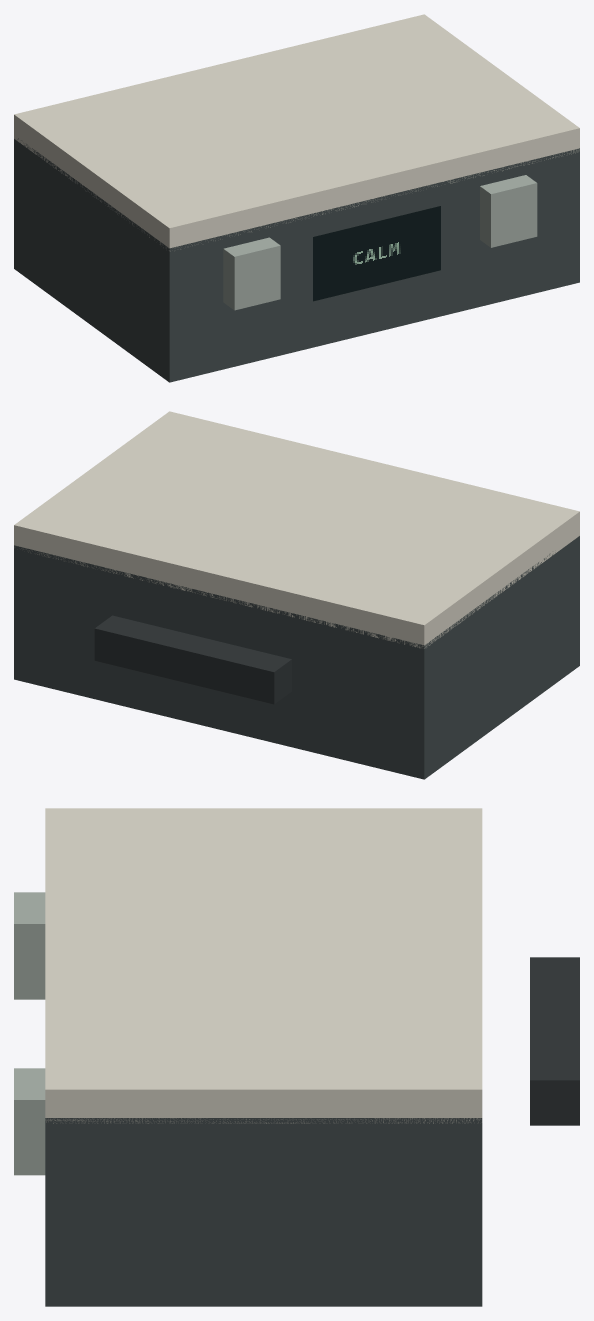
File: blender_sanity_medication_3.glb
The picture shows the model from 3 angles, top to bottom: view 1: azimuth 30°, elevation 25°; view 2: azimuth 150°, elevation 25°; view 3: azimuth 270°, elevation 25°; orthographic projection. The views are drawn at different scales.
Parts seen in each view (by area): view 1: blender_sanity_medication_3; view 2: blender_sanity_medication_3; view 3: blender_sanity_medication_3.
Boxes of the visible parts, x1=… form: blender_sanity_medication_3: x1=14, y1=14, x2=579, y2=382; blender_sanity_medication_3: x1=14, y1=411, x2=579, y2=779; blender_sanity_medication_3: x1=14, y1=808, x2=579, y2=1306.
Size of the model in its own units: 0.16 by 0.0575 by 0.136.
1 material, 1 textured.
